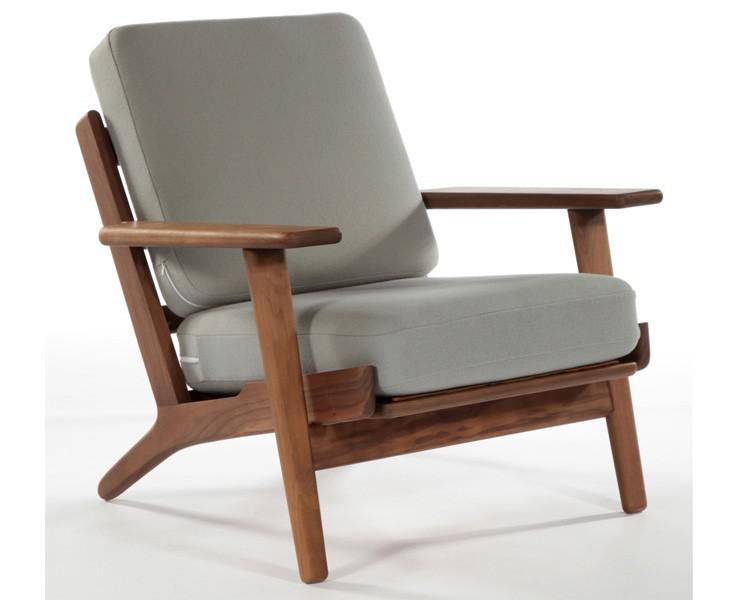chairs: (76, 11, 665, 585)
